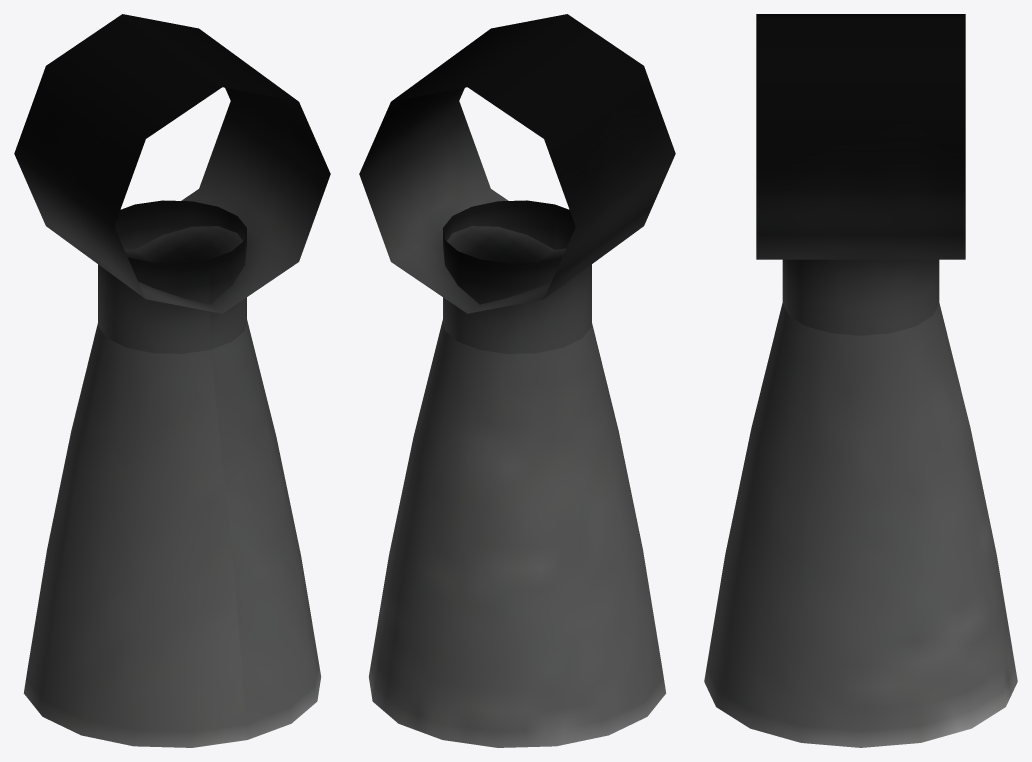
File: nozzle.obj
The picture shows the model from 3 angles, left to right: view 1: azimuth 30°, elevation 25°; view 2: azimuth 150°, elevation 25°; view 3: azimuth 270°, elevation 25°; orthographic projection. The views are drawn at different scales.
Visible parts, largest first — view 1: nozzle; view 2: nozzle; view 3: nozzle.
Part boxes in pixels (box(x1,y1,x2,y2)): nozzle: box(14, 14, 330, 747); nozzle: box(359, 14, 675, 747); nozzle: box(704, 14, 1017, 747).
Size of the model in its own units: 0.075 by 0.175 by 0.075.
1 material, 1 textured.
